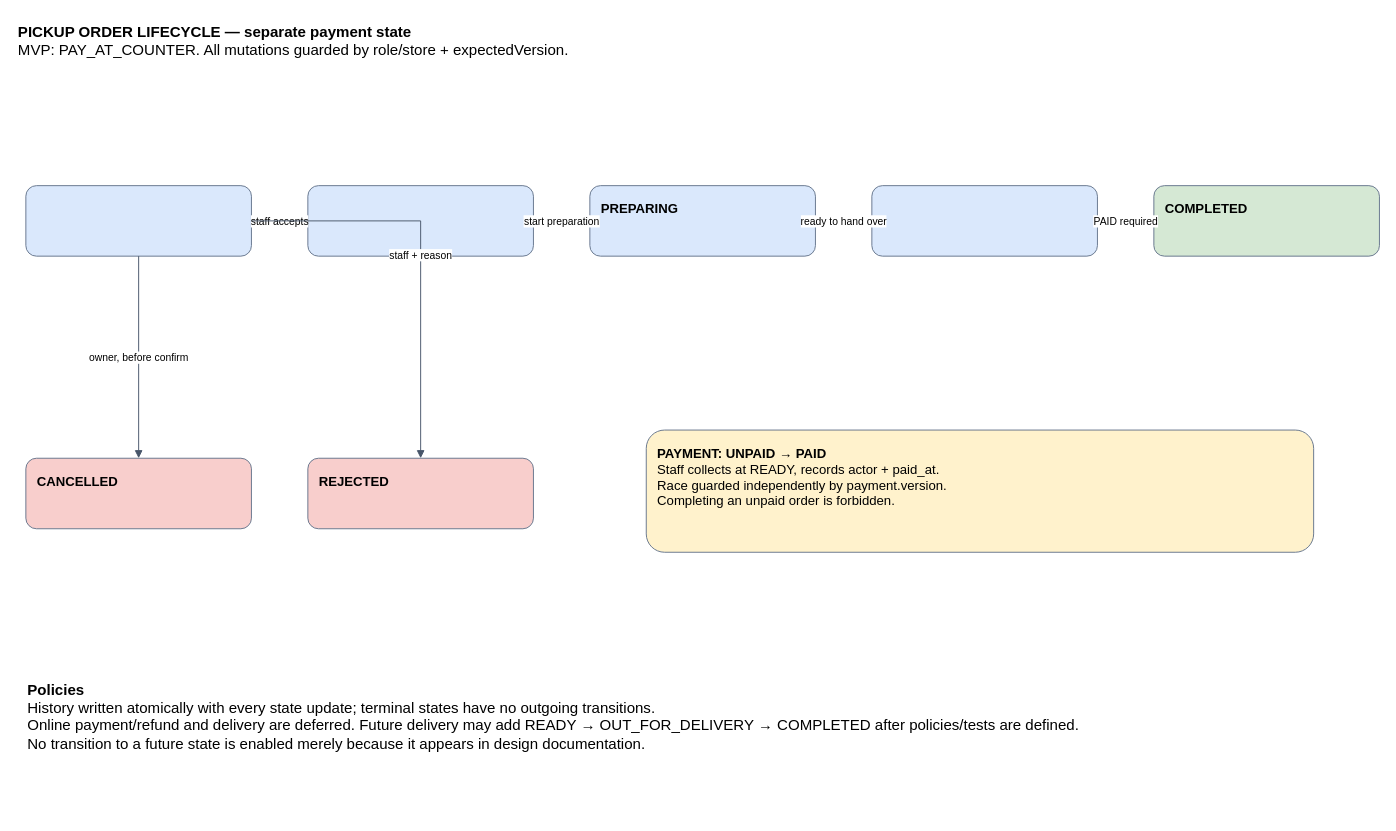
Some shapes in this 1396 by 831 pixel diagram are drawn without their labels. Here are the shapes that lost their labels. From the top down, the box of each, then its label:
(25, 185, 251, 256): PLACED
(307, 185, 533, 256): CONFIRMED
(871, 185, 1097, 256): READY
